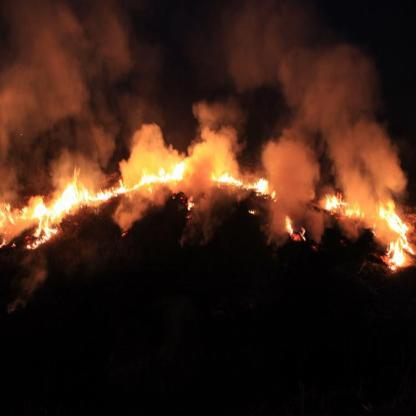fire: (98, 157, 277, 204), (326, 188, 413, 272), (3, 178, 95, 248), (280, 213, 310, 242)
smoke: (126, 102, 307, 180)
